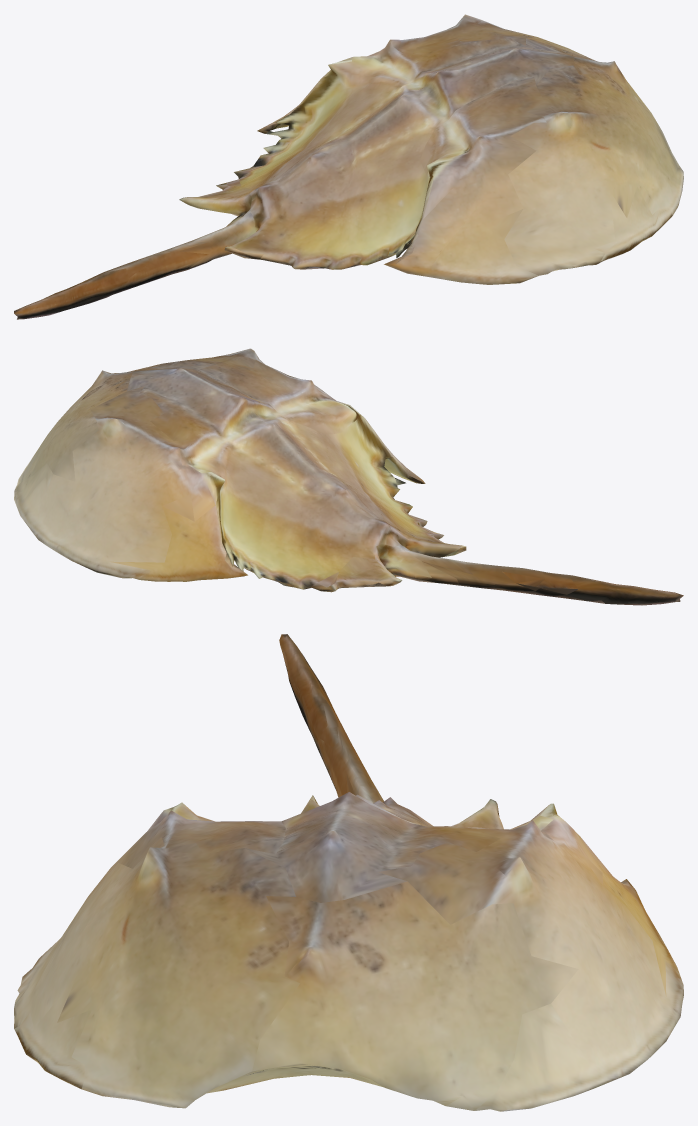
The model's file is crab.glb.
The picture shows the model from 3 angles, top to bottom: view 1: azimuth 30°, elevation 25°; view 2: azimuth 150°, elevation 25°; view 3: azimuth 270°, elevation 25°; orthographic projection. The views are drawn at different scales.
Visible parts, largest first — view 1: HorseShoeCrab; view 2: HorseShoeCrab; view 3: HorseShoeCrab.
Boxes of the visible parts, box(x1,y1,x2,y2) form: HorseShoeCrab: box(14, 14, 683, 319); HorseShoeCrab: box(14, 348, 683, 605); HorseShoeCrab: box(14, 634, 683, 1111).
Bounding box in the file's own units: 7.73 × 1.72 × 4.41.
Materials: 1 (1 with a texture image).
